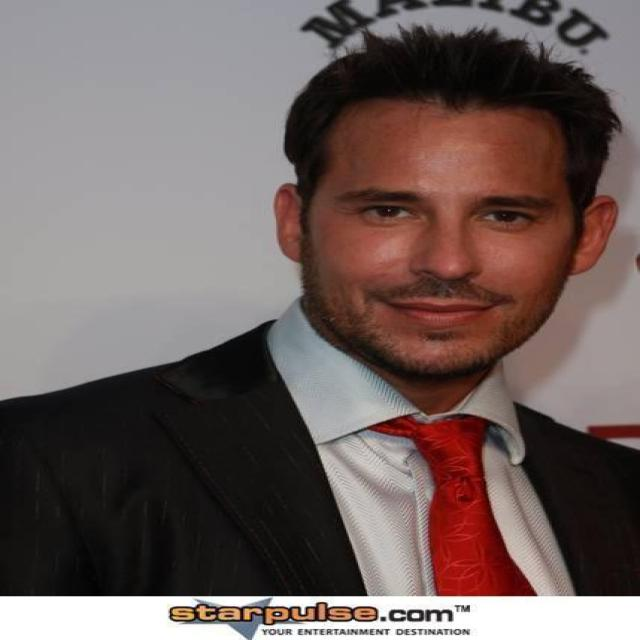0_rostro_limpio: (291, 66, 605, 380)
